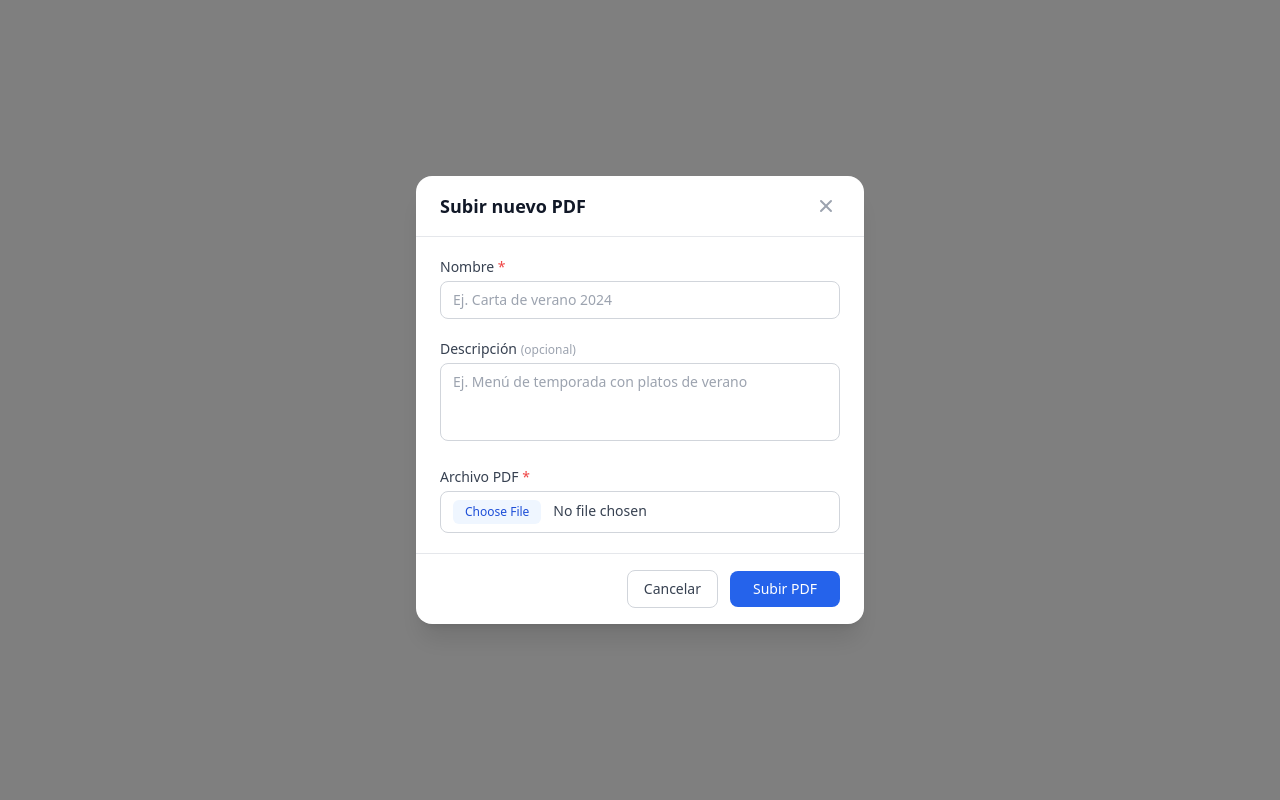
UploadModal — limpieza de errores al editar › limpia el error de nombre al escribir en el campo
Provocar error
Click the button "Subir PDF" at (785, 589), box [730,571,840,607]
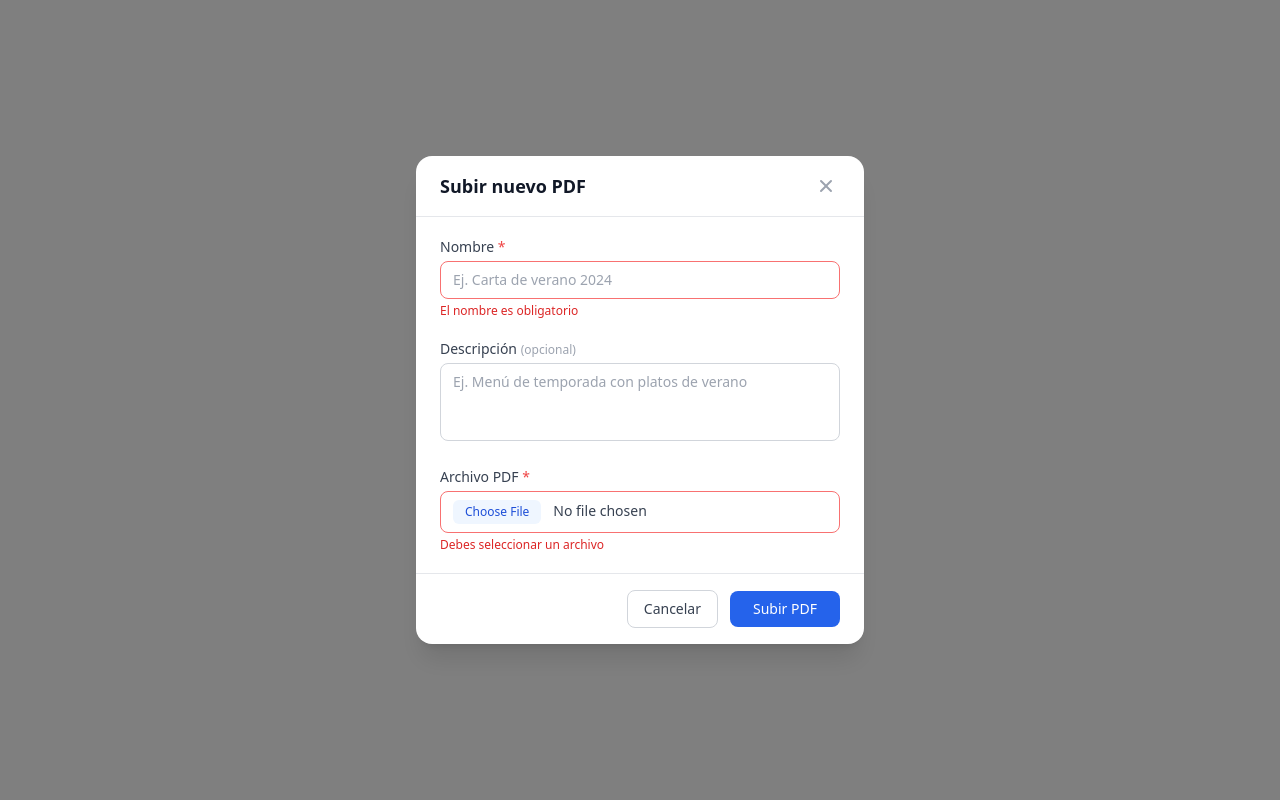
Check: the text "El nombre es obligatorio" is shown, box [440,302,578,319]
Escribir en el campo de nombre
Type "Carta" into the field labelled "Nombre *" at (640, 280), box [440,261,840,299]
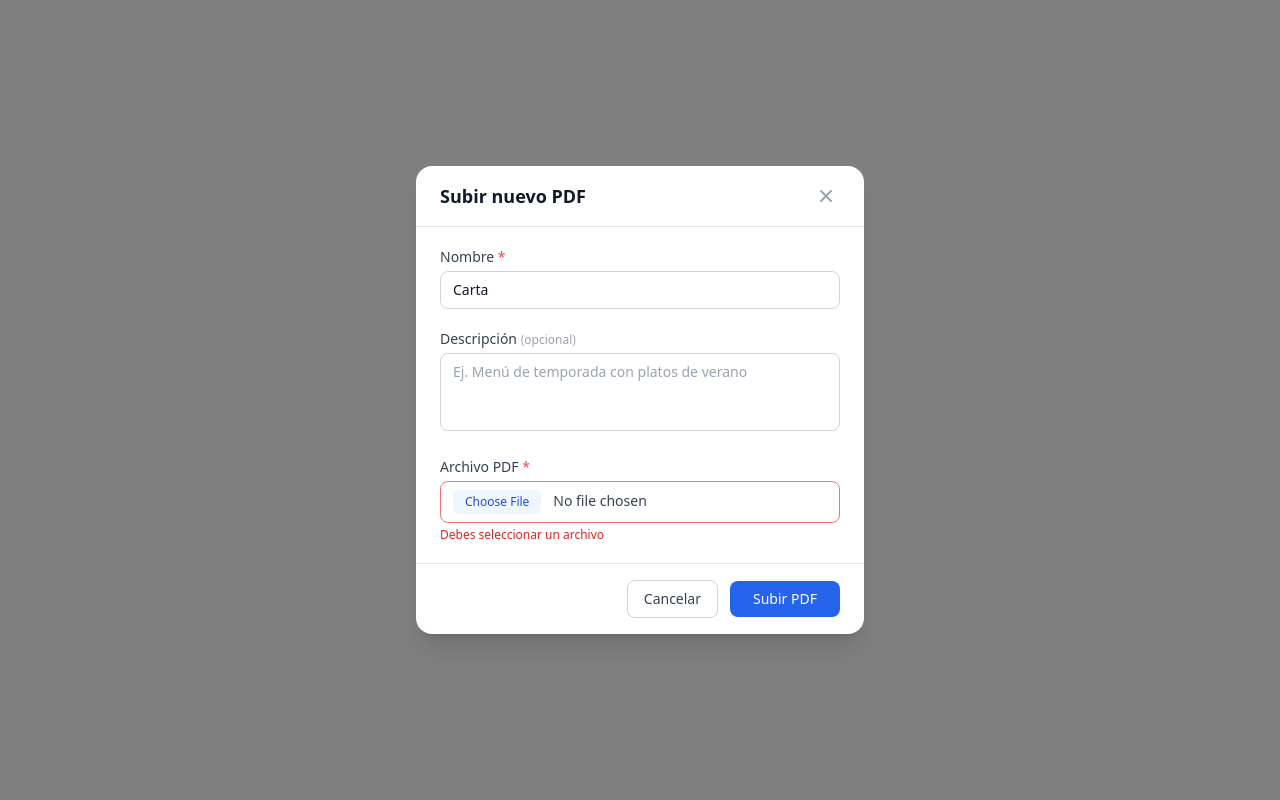
Check: the text "El nombre es obligatorio" is gone
